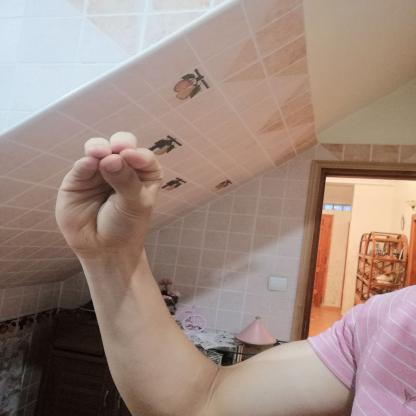HA: (41, 122, 181, 270)
